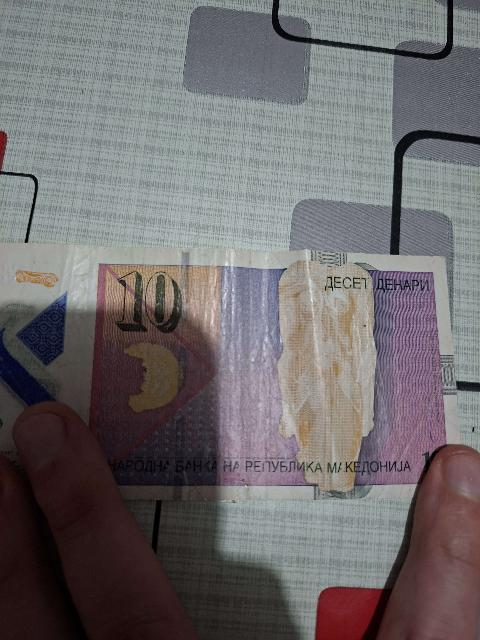10_note: (0, 245, 458, 499)
